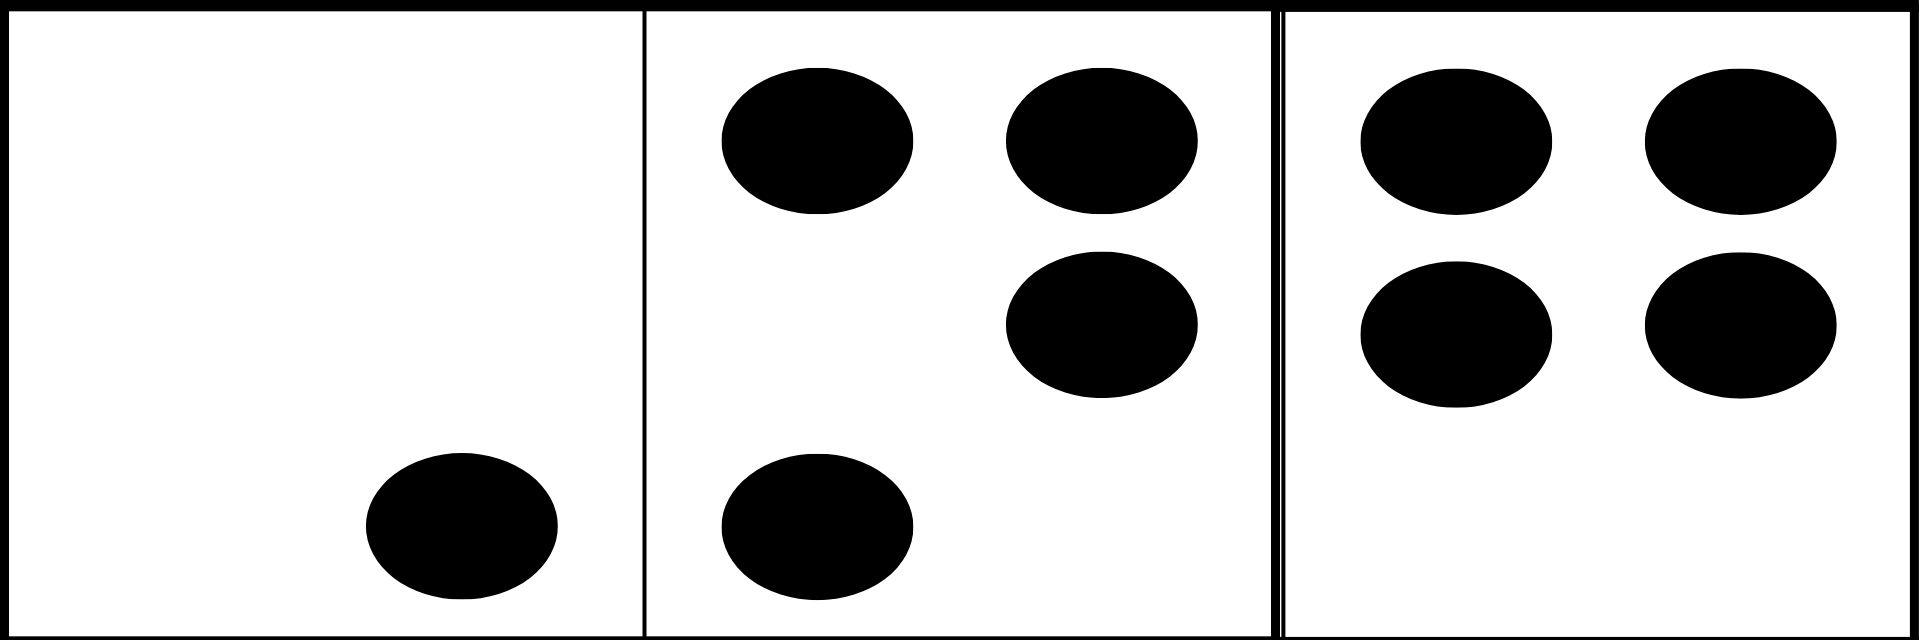G: (1357, 64, 1841, 603)
N: (722, 64, 1201, 601)
capital: (84, 59, 558, 601)
